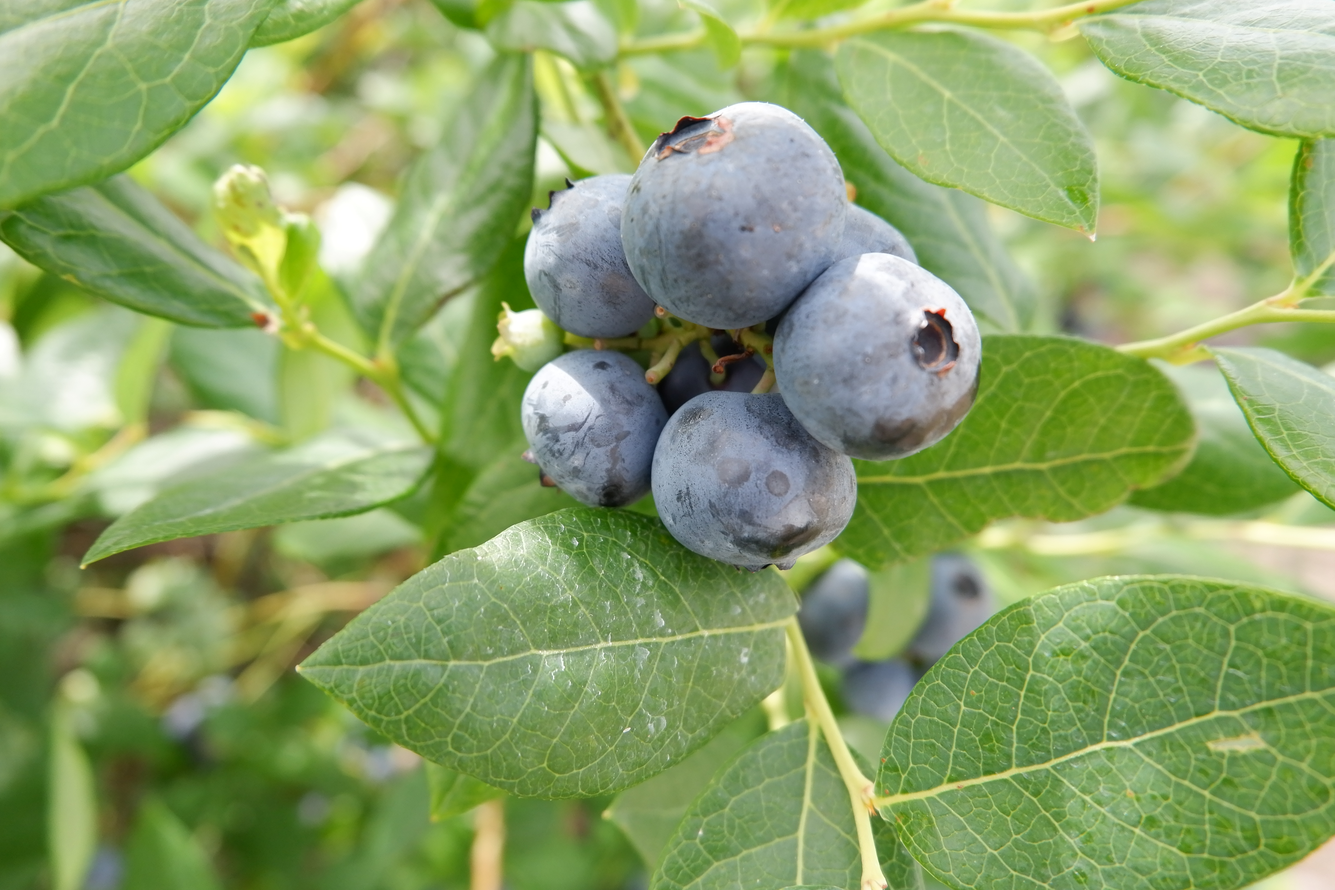Immature: (494, 307, 566, 370)
Mature: (617, 103, 846, 330), (774, 252, 980, 461), (655, 391, 852, 569), (522, 350, 665, 505), (527, 177, 655, 335), (651, 333, 766, 413), (832, 205, 915, 265)
